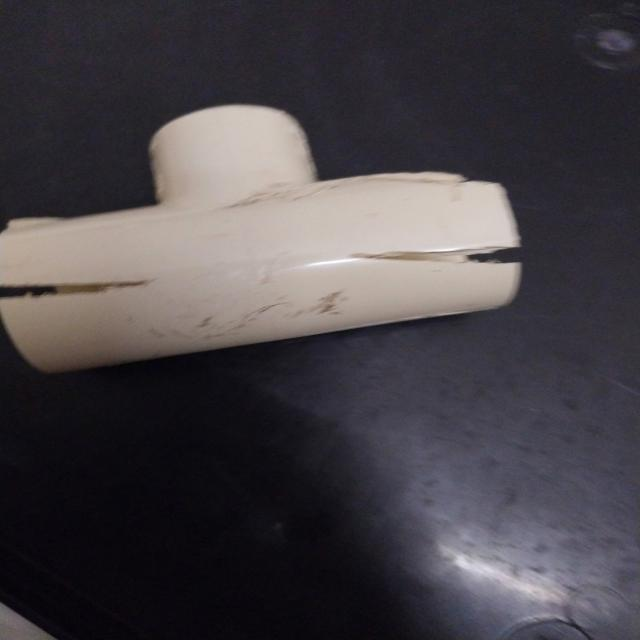Defective: (13, 250, 163, 366), (353, 237, 574, 292), (209, 289, 345, 333)
T Joint: (0, 105, 524, 377)
